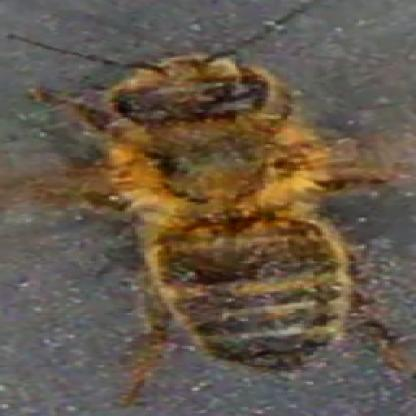bee: (78, 54, 341, 368)
